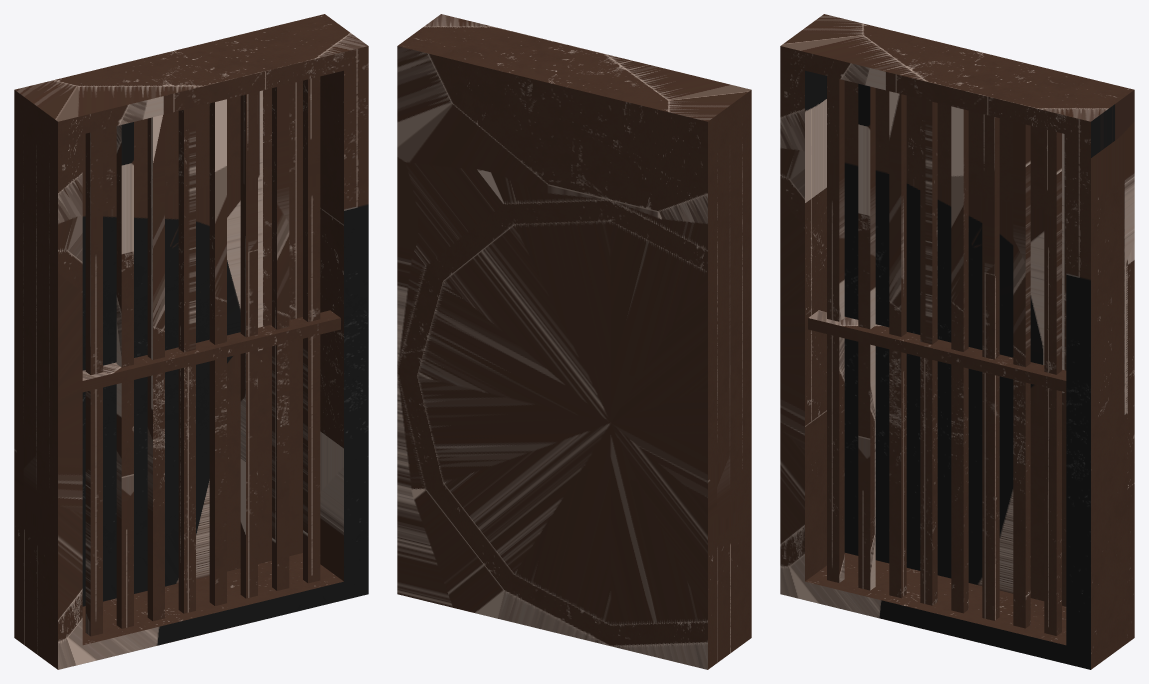
The model's file is VentSmall.gltf.
The picture shows the model from 3 angles, left to right: view 1: azimuth 30°, elevation 25°; view 2: azimuth 150°, elevation 25°; view 3: azimuth 330°, elevation 25°; orthographic projection.
Visible parts, largest first — view 1: Cube.029; view 2: Cube.029; view 3: Cube.029.
Part boxes in pixels (x1,y1,x2,y2): Cube.029: (14, 14, 368, 669); Cube.029: (397, 14, 751, 669); Cube.029: (780, 14, 1134, 669).
Bounding box in the file's own units: 2.46 × 4.15 × 0.6005.
